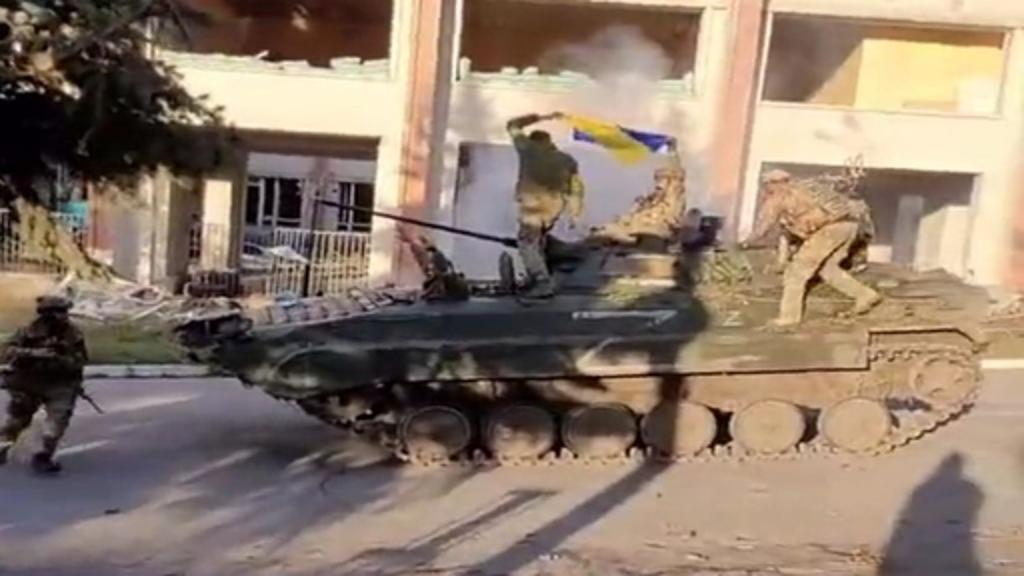APC-IFV: (204, 174, 984, 468)
